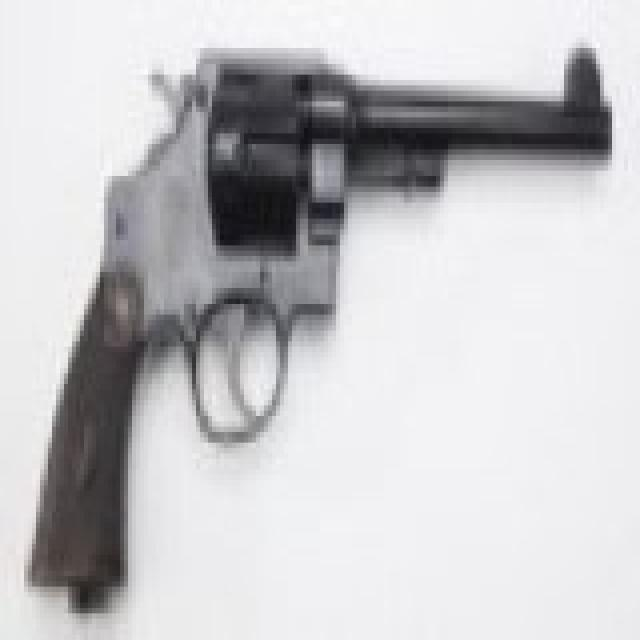Gun: (19, 36, 622, 608)
